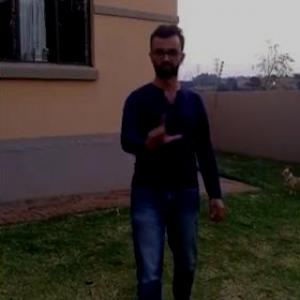land_hand: (139, 107, 182, 154)
